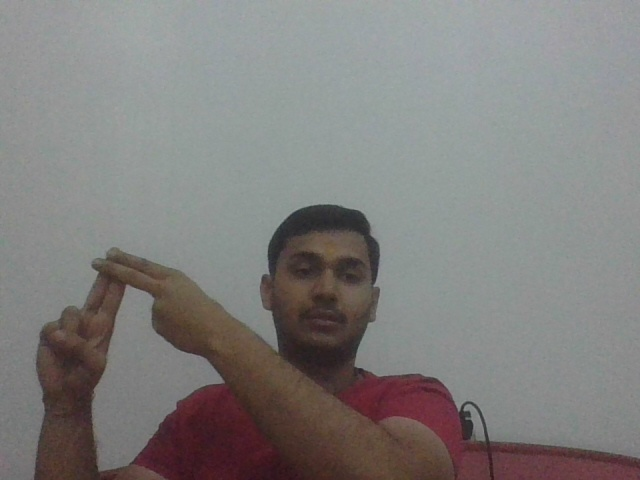F: (31, 243, 223, 386)
